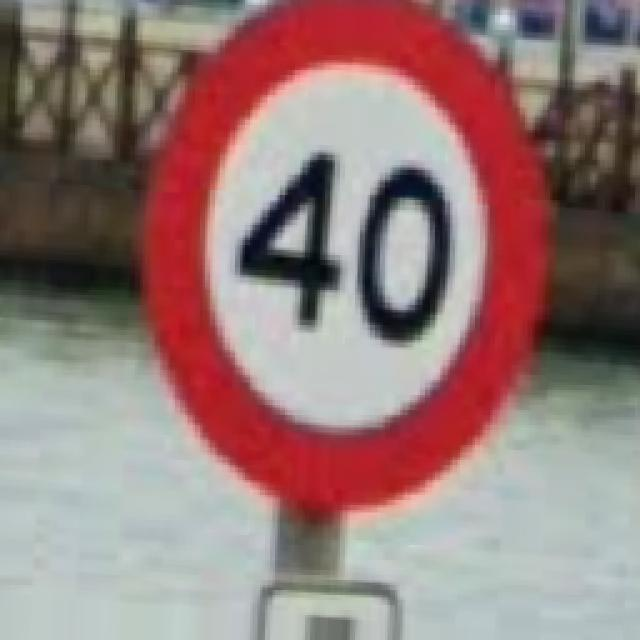Speed Limit -40-: (145, 2, 545, 514)
